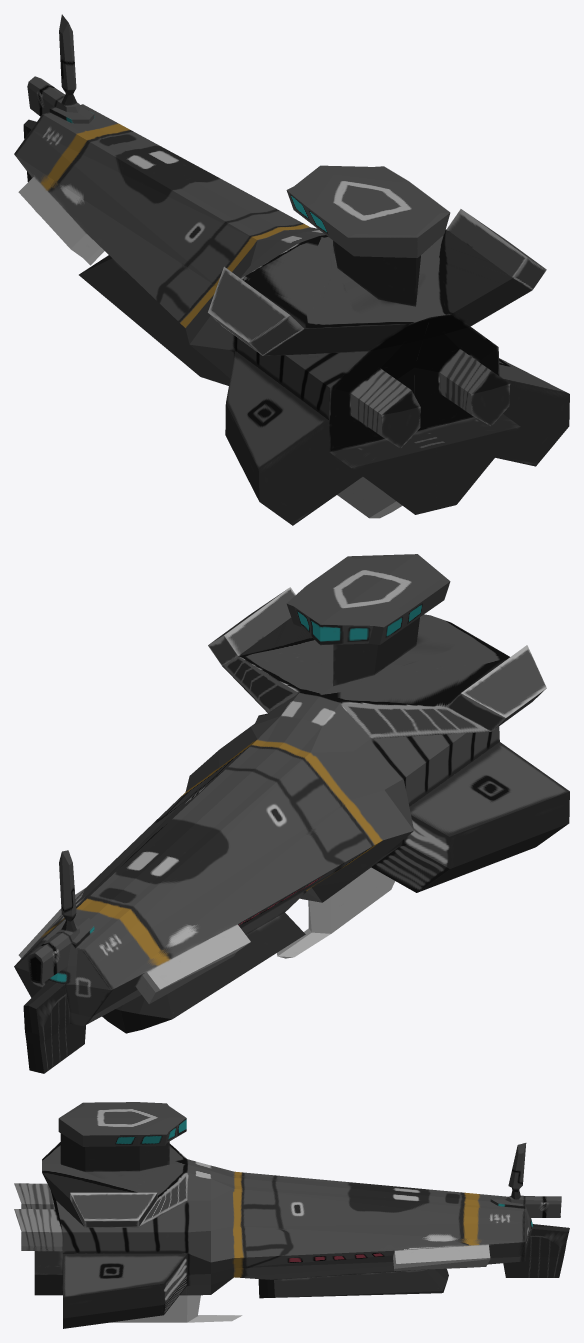
Rendered from Frigate.fbx.
The picture shows the model from 3 angles, top to bottom: view 1: azimuth 30°, elevation 25°; view 2: azimuth 150°, elevation 25°; view 3: azimuth 270°, elevation 25°; orthographic projection. The views are drawn at different scales.
Visible parts, largest first — view 1: Cube; view 2: Cube; view 3: Cube.
Part boxes in pixels (bbox=[...]): Cube: bbox=[14, 14, 569, 525]; Cube: bbox=[14, 554, 569, 1073]; Cube: bbox=[14, 1102, 569, 1328].
Bounding box in the file's own units: 507 × 483 × 1194.
